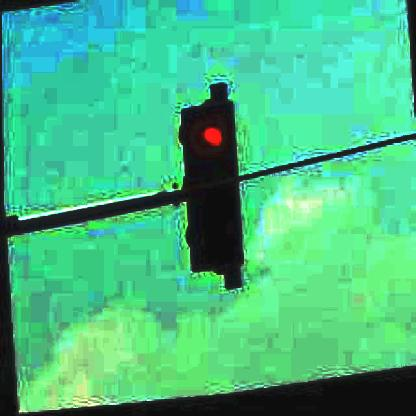Traffic Light -Red-: (177, 103, 244, 275)
